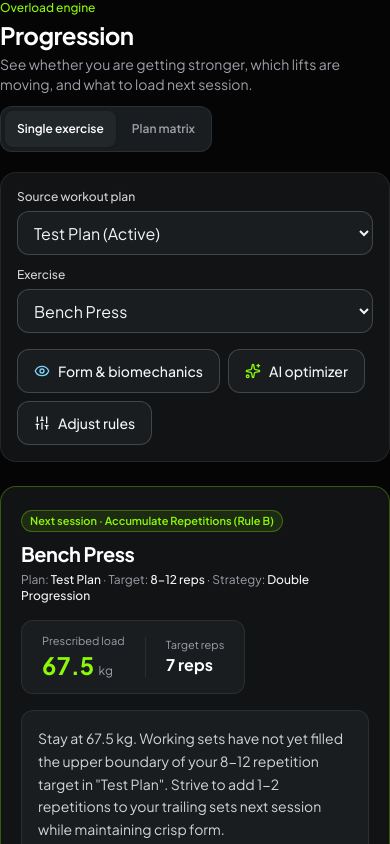
it: ProgressionView (plan matrix) › lists every plan exercise with status, next prescription and last change
What coordinates should you click on to do the following:
click the button "Plan matrix"
I would click on:
 (163, 129)
Its box is [120,111,207,147].
(page scrolled)
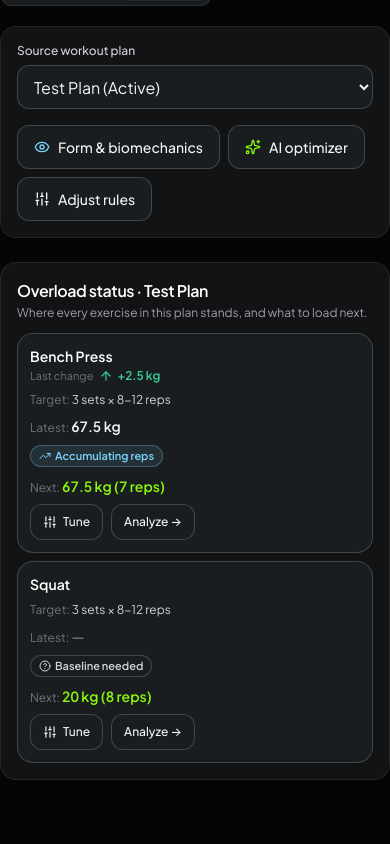
Check: the row that starts with "Bench Press" shows "Last change", box [30,369,93,382]
Check: the row that starts with "Bench Press" shows "+2.5 kg", box [17,333,373,553]
Check: the row that starts with "Squat" shows "Baseline needed", box [55,659,143,672]
